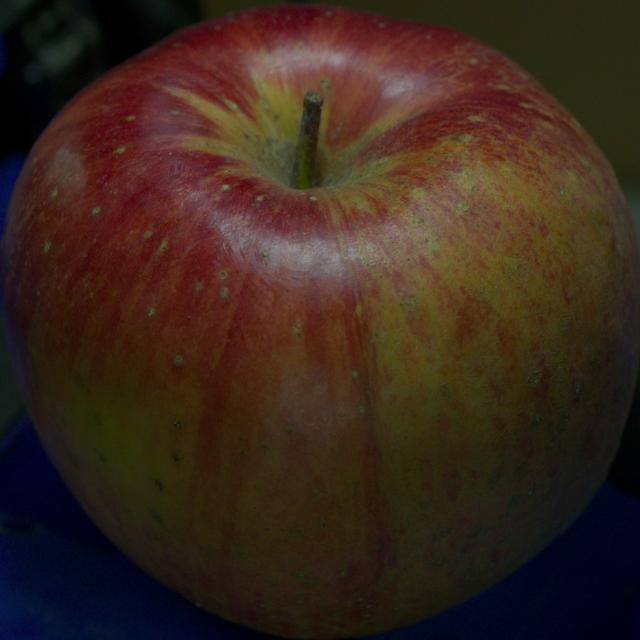apple: (0, 5, 639, 639)
